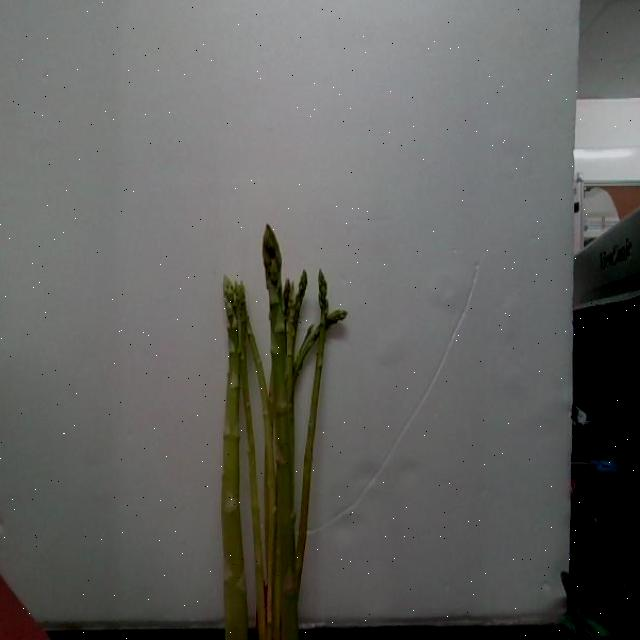aspargus: (263, 227, 294, 640)
